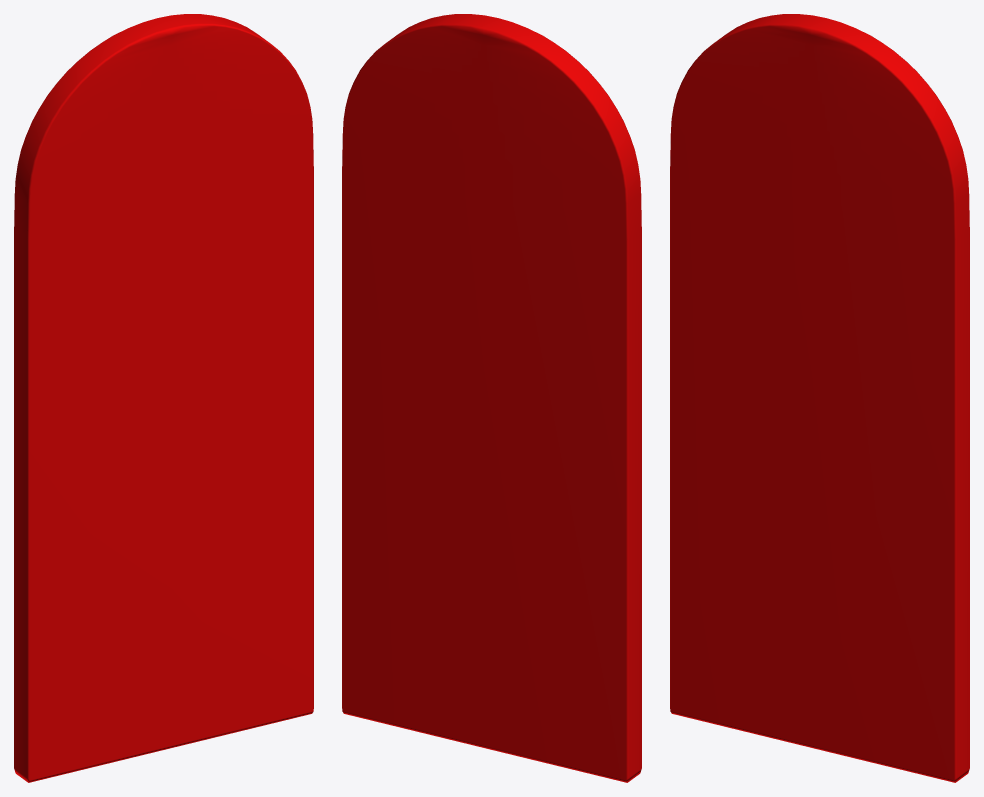
Rendered from Door1Arch1.fbx.
3 views of the same model, side by side, from view 1: azimuth 30°, elevation 25°; view 2: azimuth 150°, elevation 25°; view 3: azimuth 330°, elevation 25° (orthographic).
Visible parts, largest first — view 1: Door1Arch1; view 2: Door1Arch1; view 3: Door1Arch1.
Part boxes in pixels (x1,y1,x2,y2): Door1Arch1: (14, 14, 313, 782); Door1Arch1: (342, 14, 641, 782); Door1Arch1: (670, 14, 969, 782).
Size of the model in its own units: 111 by 265 by 11.15.
